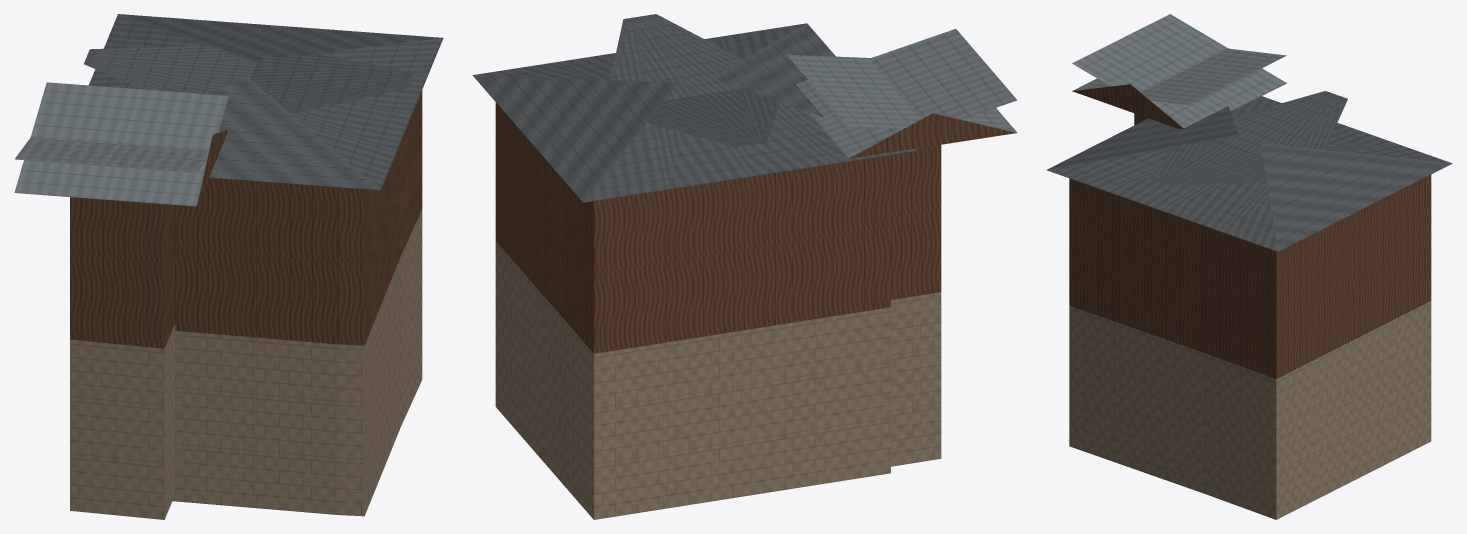
Rendered from bld_c9_16_446.gltf.
3 renders of one model, left to right at view 1: azimuth 30°, elevation 25°; view 2: azimuth 150°, elevation 25°; view 3: azimuth 270°, elevation 25°, orthographic. The views are drawn at different scales.
Parts seen in each view (by area): view 1: bld_c9_16_446; view 2: bld_c9_16_446; view 3: bld_c9_16_446.
Boxes of the visible parts, x1,y1,x2,y2 form: bld_c9_16_446: (14,14,443,519); bld_c9_16_446: (472,14,1017,519); bld_c9_16_446: (1046,14,1452,519).
Size of the model in its own units: 15.42 by 11.4 by 13.31.
Materials: 5 (5 with a texture image).
